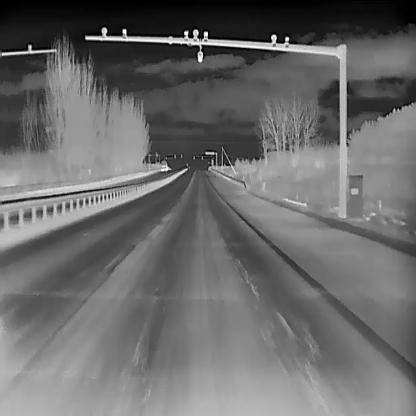truck: (160, 158, 168, 172)
